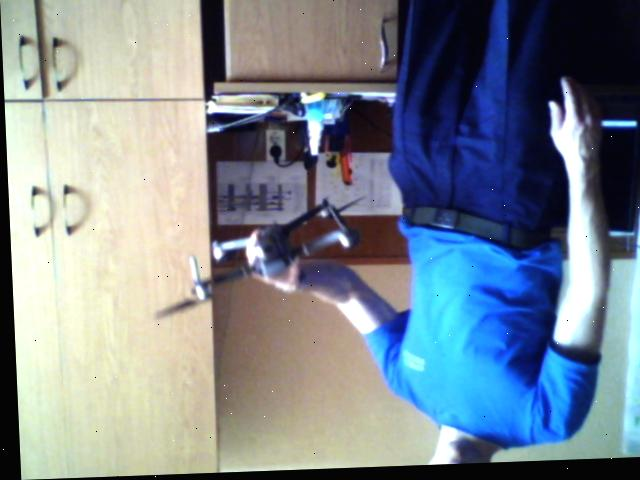drone: (121, 195, 371, 325)
